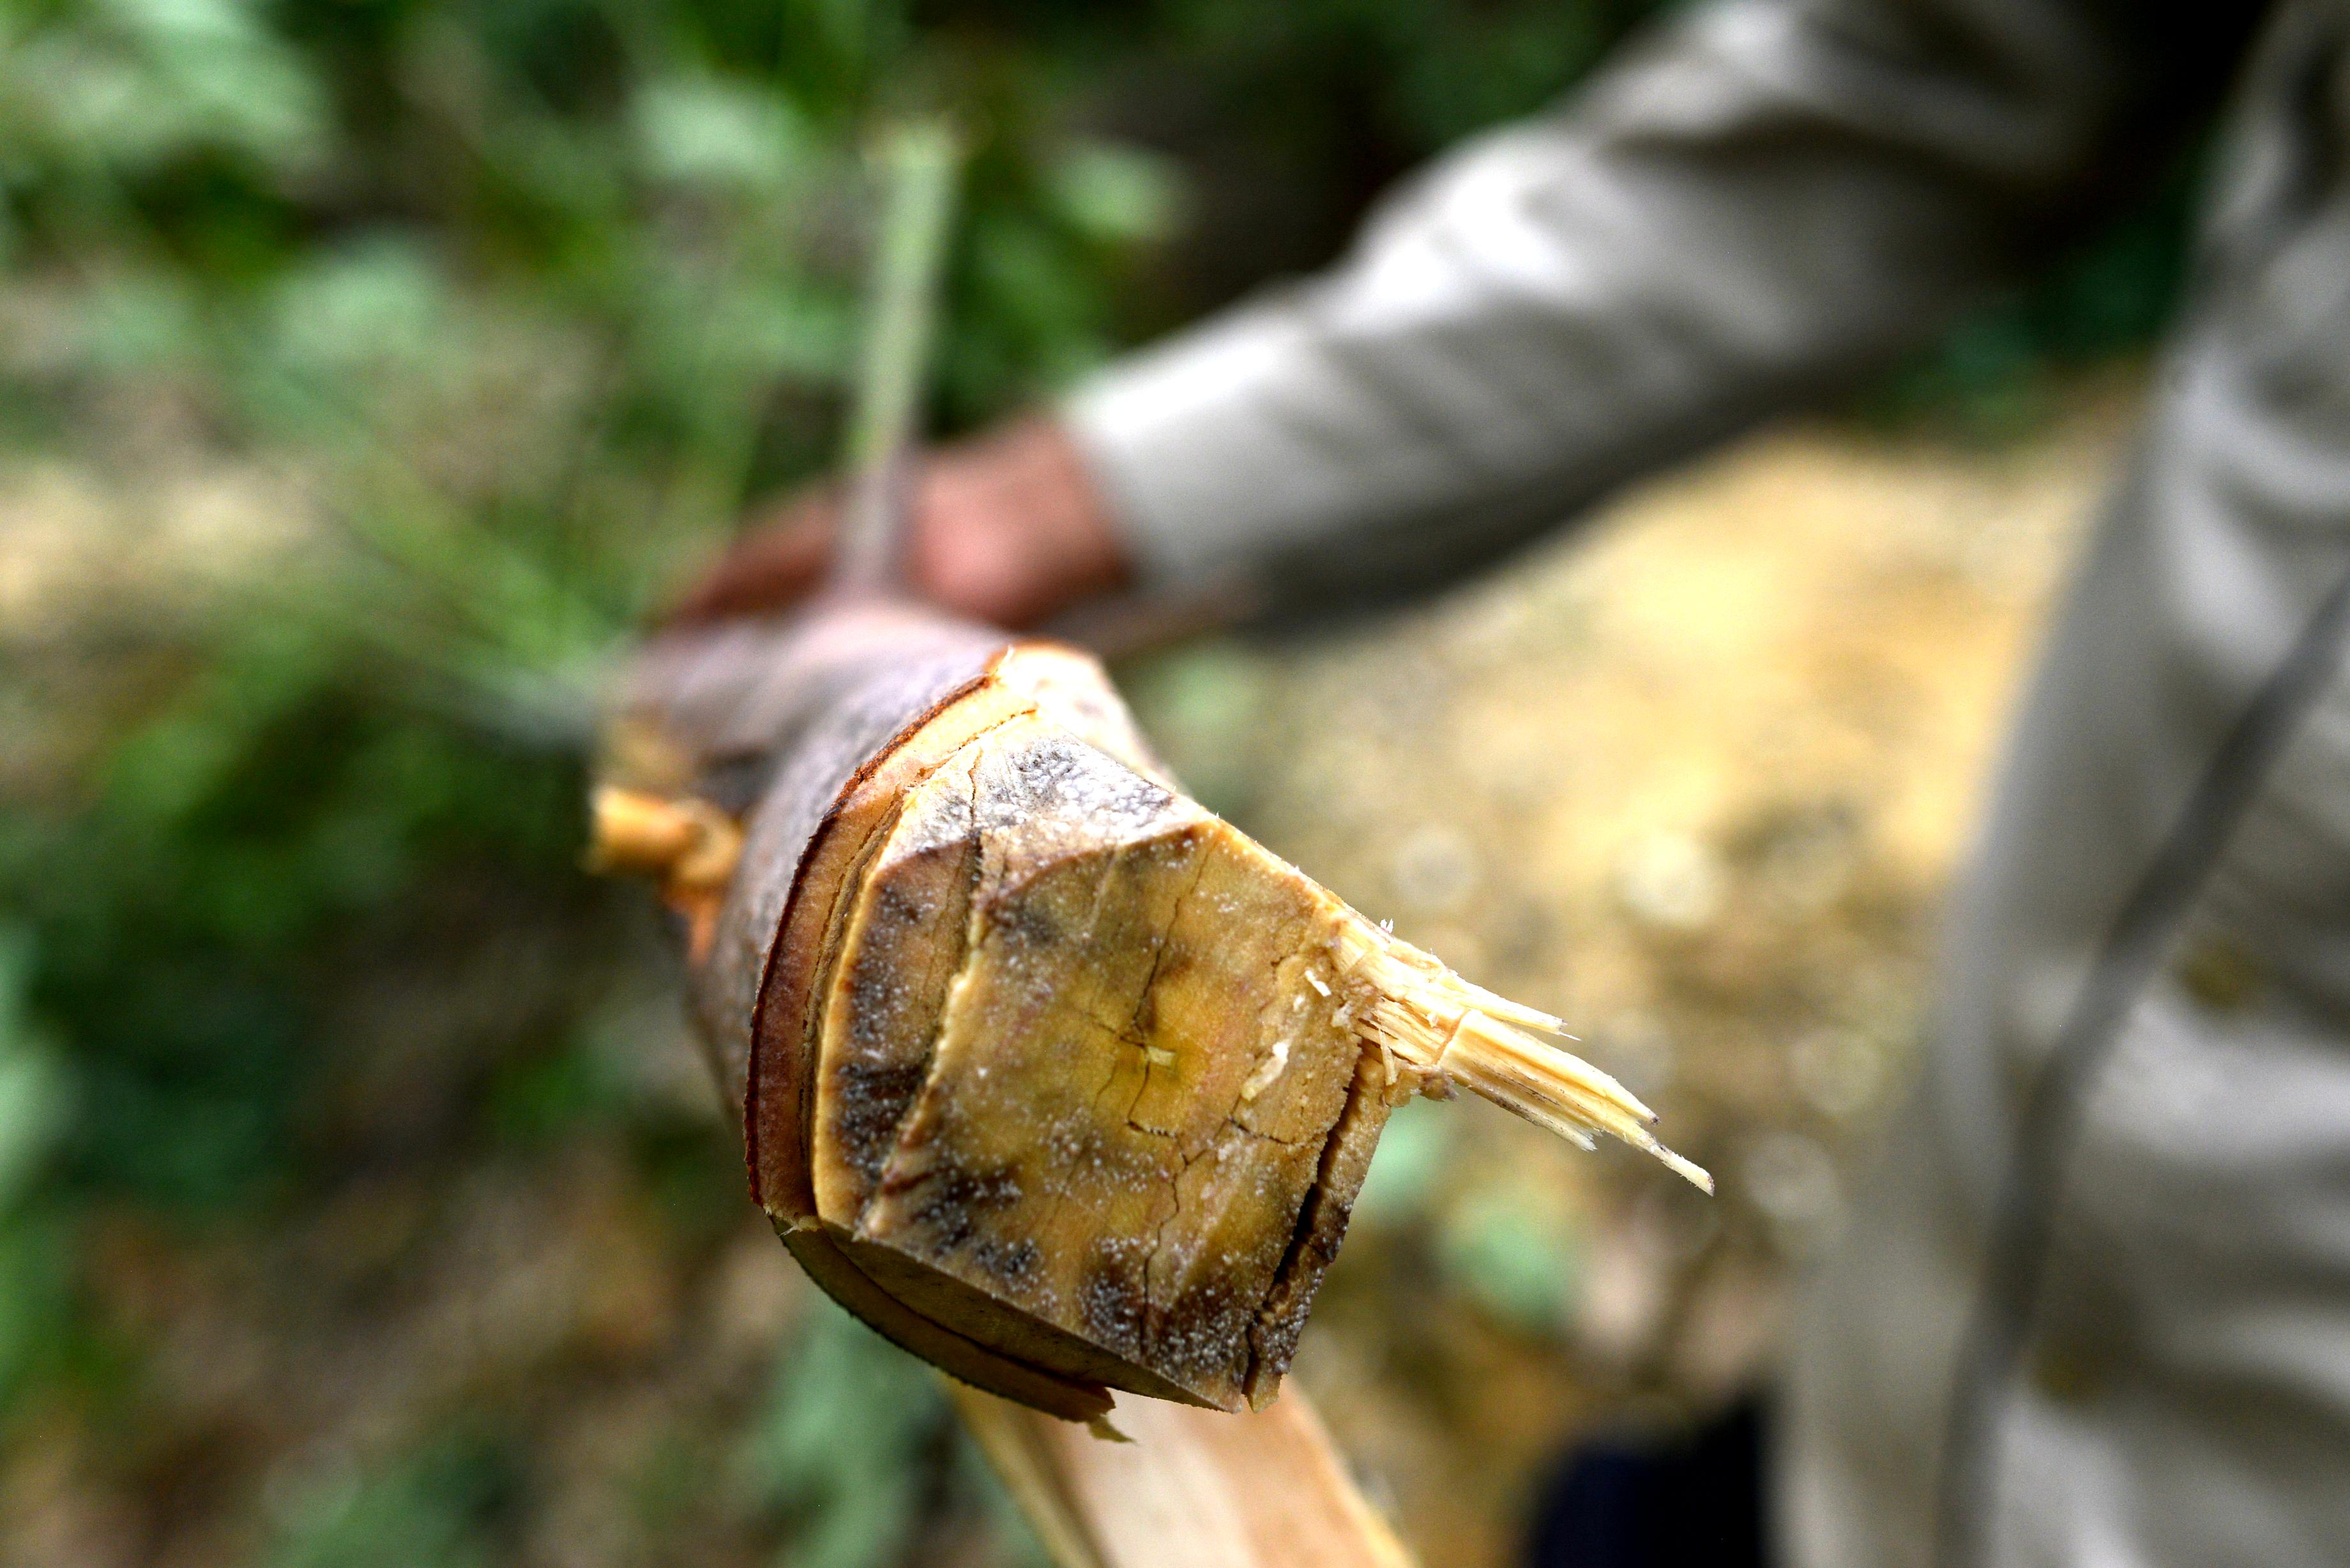Ralstonia: (839, 916, 1044, 1366), (1073, 1143, 1352, 1402), (882, 733, 1207, 895), (970, 874, 1190, 1055), (1029, 1104, 1183, 1211)
